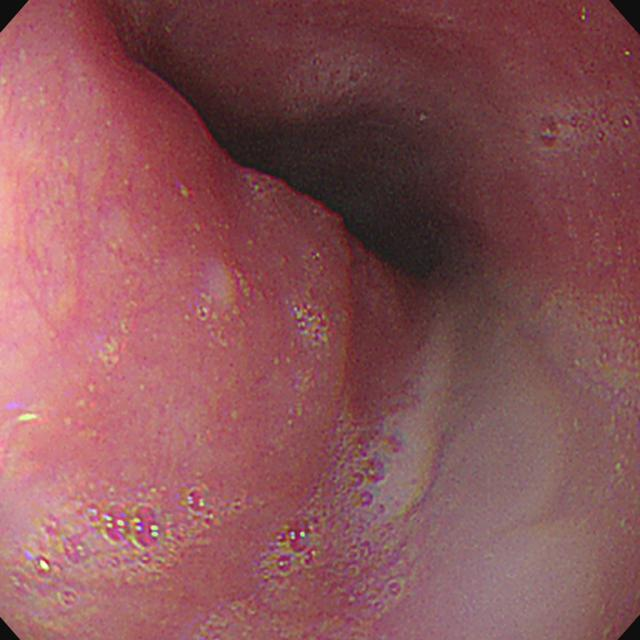T: (268, 352, 445, 638), (11, 484, 217, 611), (293, 305, 335, 346)
